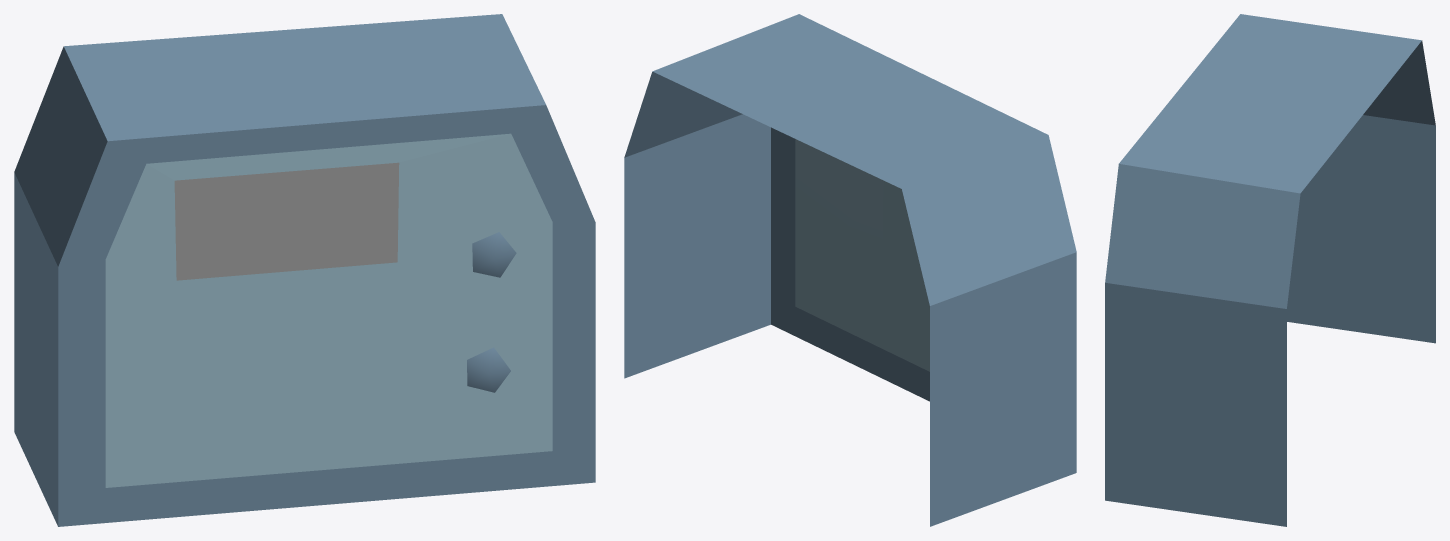
File: MSH_QuestObject_box_02.fbx
3 renders of one model, left to right at view 1: azimuth 30°, elevation 25°; view 2: azimuth 150°, elevation 25°; view 3: azimuth 270°, elevation 25°, orthographic. The views are drawn at different scales.
Parts seen in each view (by area): view 1: MSH_QuestObject_box_02; view 2: MSH_QuestObject_box_02; view 3: MSH_QuestObject_box_02.
Part boxes in pixels (left/top/right/bottom): MSH_QuestObject_box_02: left=14, top=14, right=595, bottom=526; MSH_QuestObject_box_02: left=624, top=14, right=1076, bottom=526; MSH_QuestObject_box_02: left=1105, top=14, right=1435, bottom=526.
Bounding box in the file's own units: 0.833 × 0.5921 × 0.5548.
